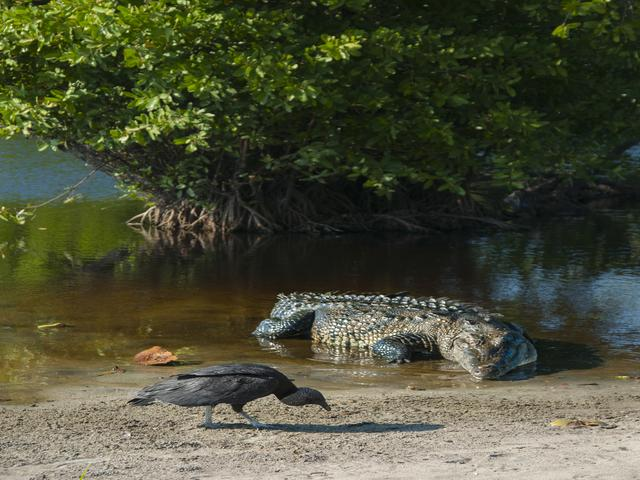bird: (105, 346, 389, 445)
crocodile: (241, 273, 562, 367)
